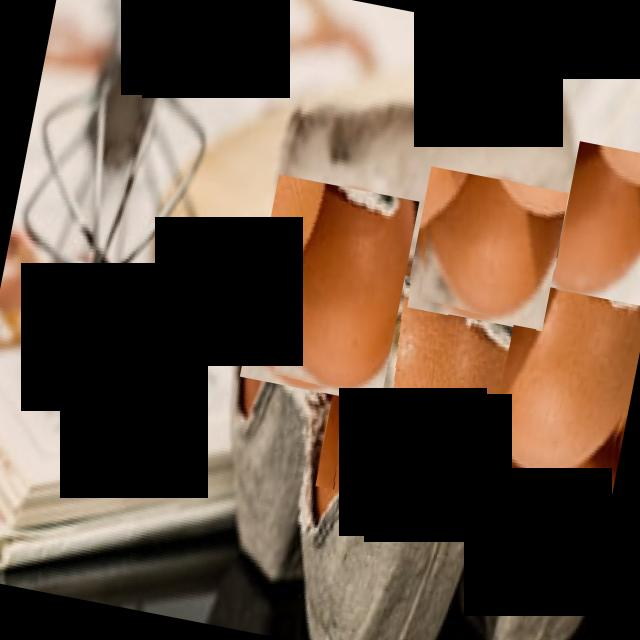eggs: (314, 266, 518, 517), (240, 175, 420, 404), (471, 249, 640, 491), (404, 166, 568, 332), (551, 141, 640, 307)
